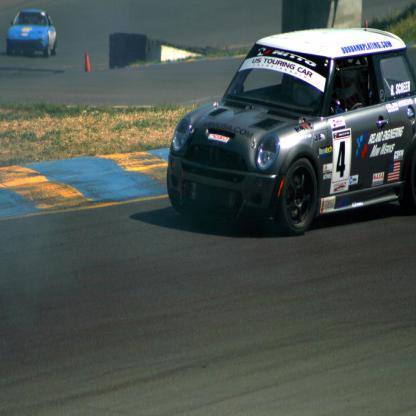Car: (167, 17, 416, 236), (5, 9, 58, 56)
